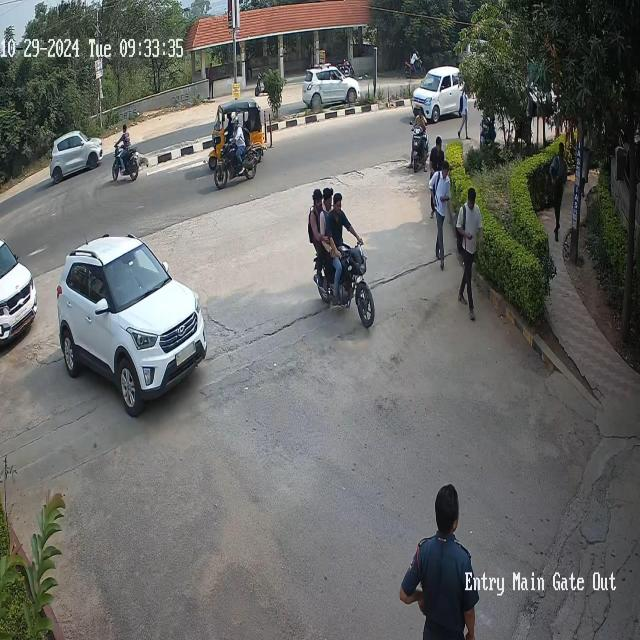triple_rider: (309, 185, 375, 330)
